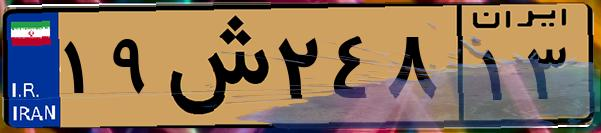1: (57, 26, 110, 100), (475, 38, 525, 113)
2: (270, 28, 330, 110)
3: (525, 38, 570, 115)
4: (330, 28, 385, 110)
8: (385, 28, 445, 110)
9: (110, 28, 158, 98)
ش: (158, 12, 270, 120)
